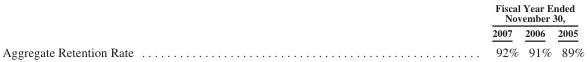table: (1, 1, 583, 58)
table column: (1, 1, 312, 58), (312, 1, 521, 58), (521, 1, 554, 58), (554, 1, 583, 58)
table column header: (1, 1, 583, 41)
table row: (1, 1, 583, 24), (1, 24, 583, 41), (1, 41, 583, 58)
table spanning cell: (312, 1, 583, 24)
